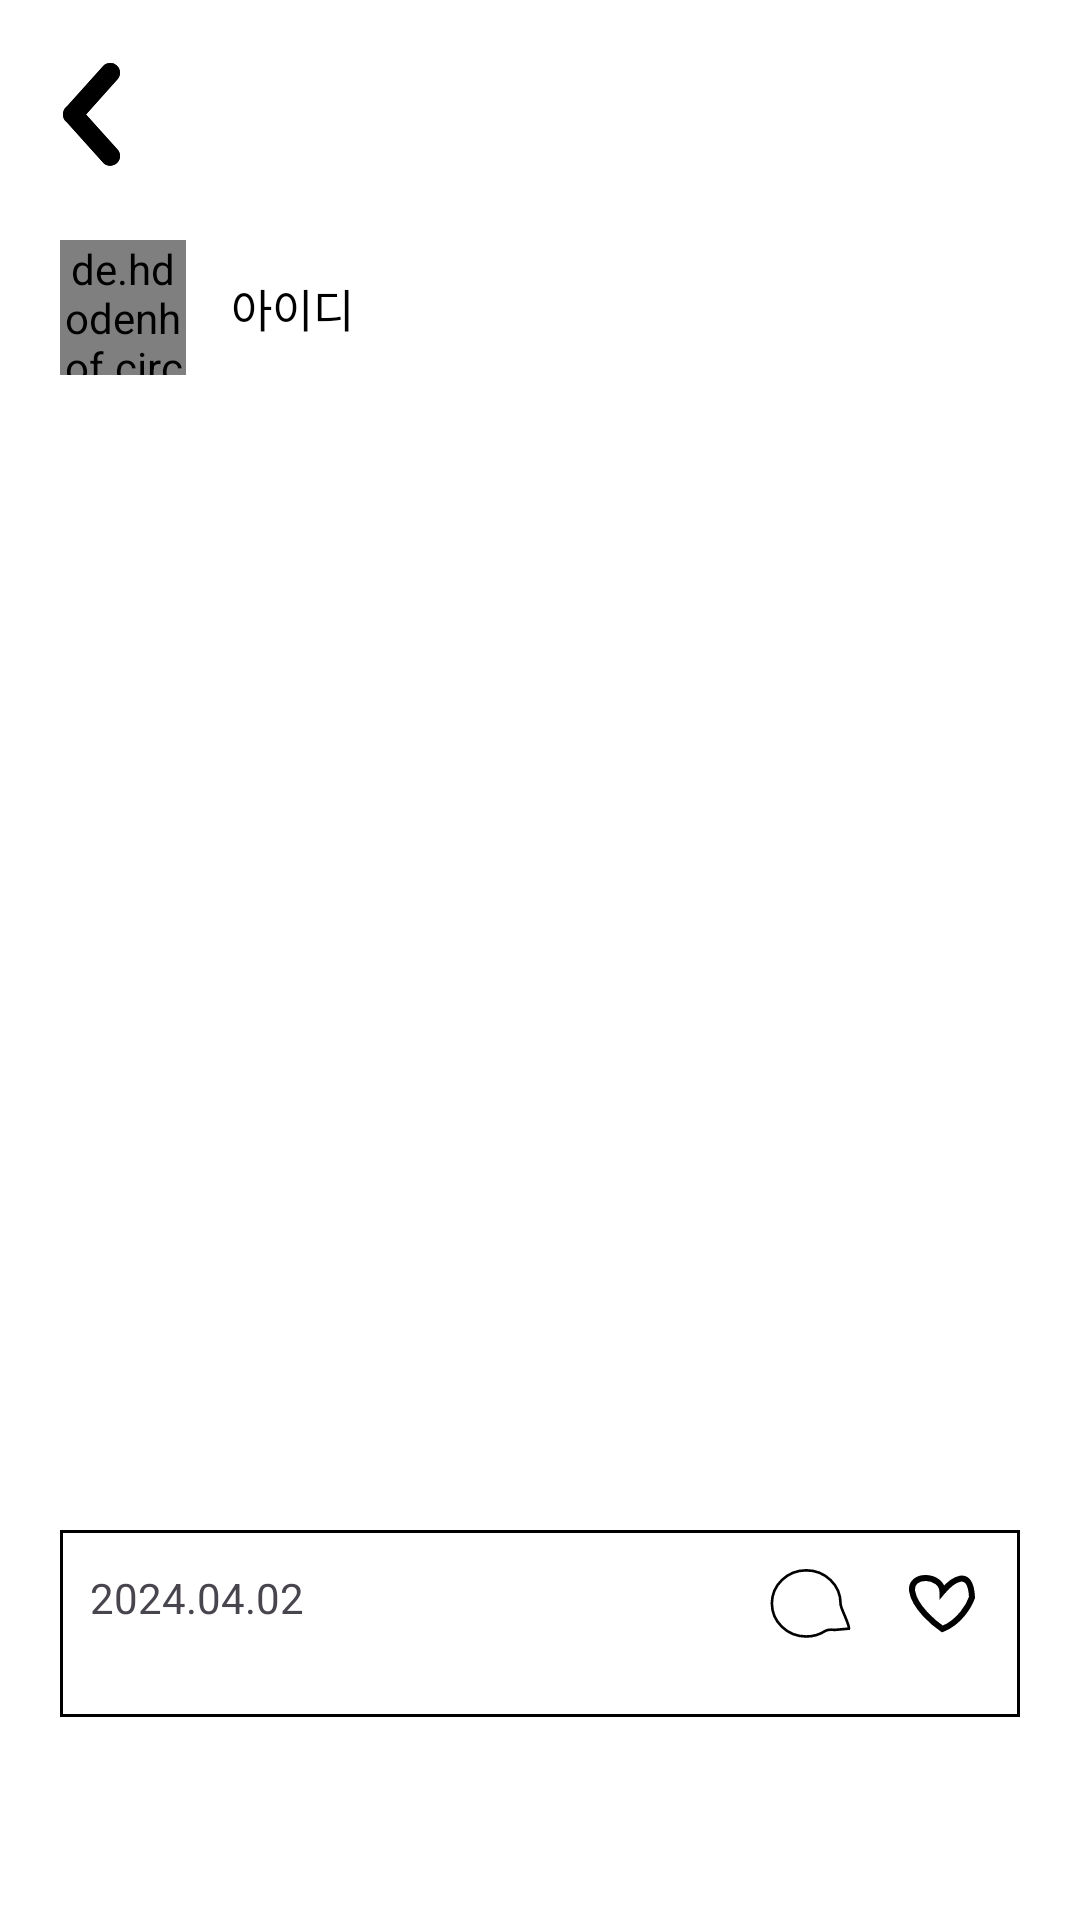

Named icons in this screenshot (1080px x 1920px) and their bounding boxes, (x1, y1, x2, y2):
btnback: (63, 63, 120, 166)
comment: (770, 1569, 851, 1638)
heart: (909, 1575, 975, 1633)
